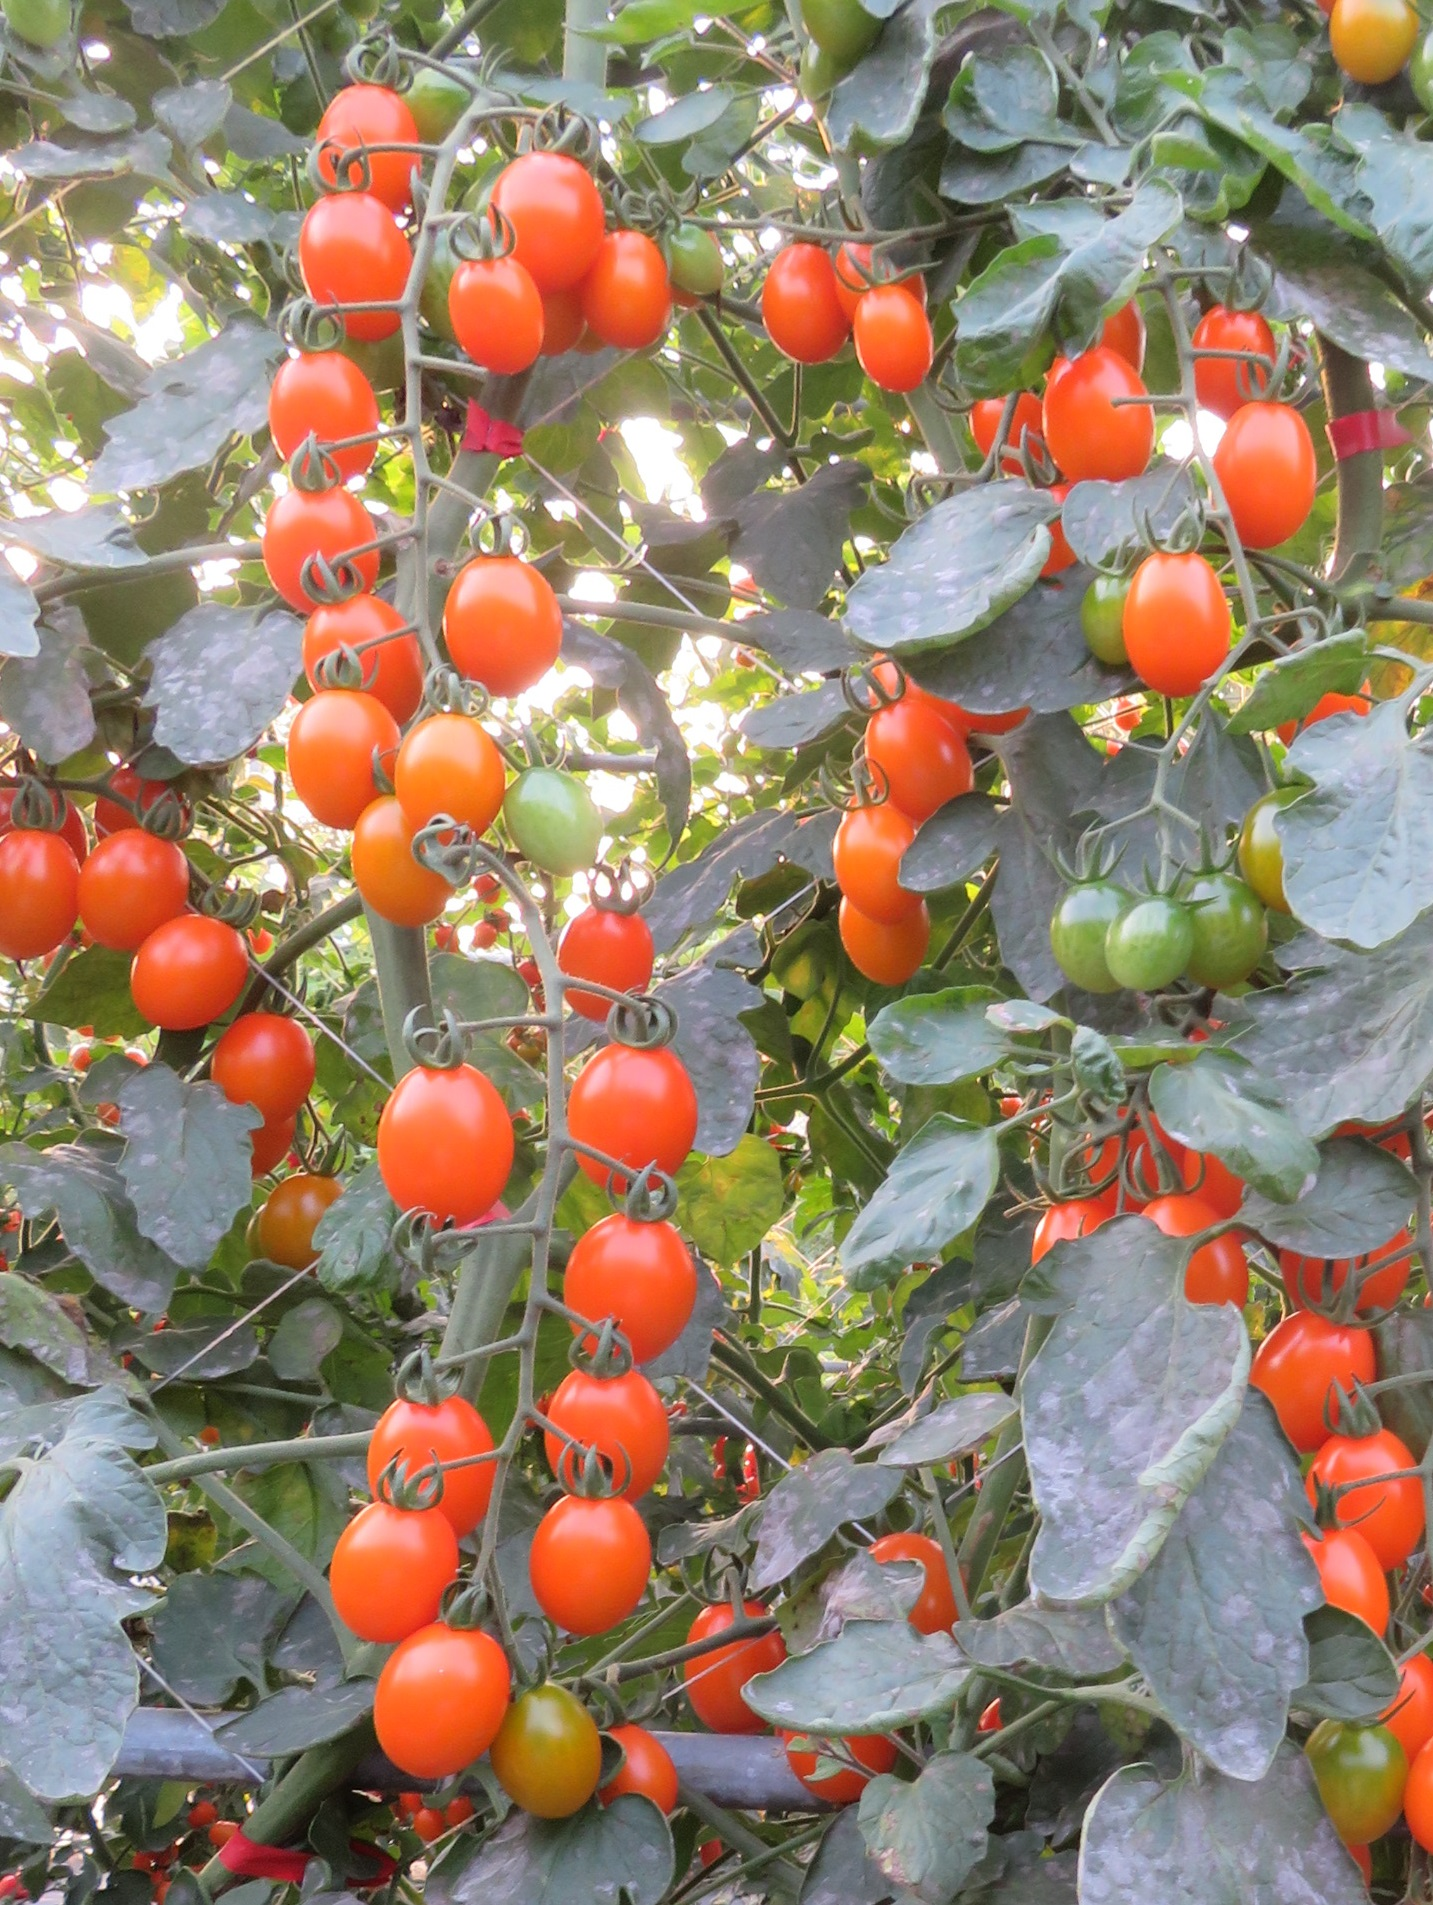green: (489, 1675, 604, 1822), (500, 752, 610, 873), (1186, 868, 1279, 1004), (1307, 1721, 1404, 1849), (1045, 873, 1130, 1005), (251, 1168, 348, 1281), (1109, 889, 1198, 995), (1070, 567, 1127, 667)
orange: (372, 1050, 518, 1238), (364, 1618, 512, 1797), (345, 1384, 500, 1542), (551, 1199, 701, 1362), (324, 1487, 470, 1654), (527, 1348, 677, 1508), (461, 141, 614, 287), (567, 1031, 701, 1196), (519, 1485, 655, 1640), (1239, 1305, 1382, 1445), (1302, 1422, 1433, 1563), (120, 907, 265, 1034), (434, 552, 564, 689), (382, 703, 506, 846), (300, 187, 414, 339), (275, 591, 429, 703), (1123, 539, 1231, 694), (263, 457, 382, 594), (291, 682, 409, 819), (1039, 342, 1147, 489), (1216, 405, 1319, 560), (820, 877, 945, 998), (80, 822, 199, 948), (863, 694, 981, 819), (294, 89, 424, 202), (441, 236, 543, 378), (823, 785, 933, 916), (271, 348, 382, 472), (355, 795, 453, 936), (212, 1011, 325, 1132), (2, 822, 90, 960), (756, 235, 844, 372), (561, 901, 661, 1022), (589, 224, 674, 352), (850, 284, 935, 396), (1328, 2, 1410, 99)
red: (686, 1606, 784, 1733)
